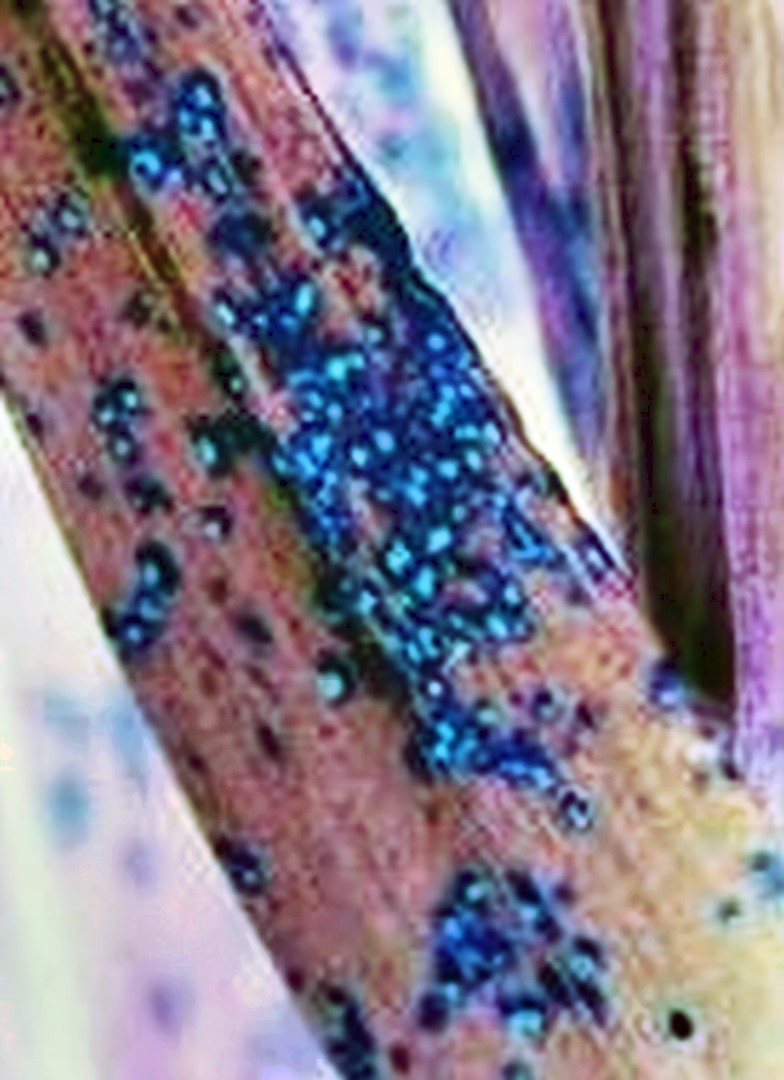Leaf Rust: (77, 121, 673, 1047)
